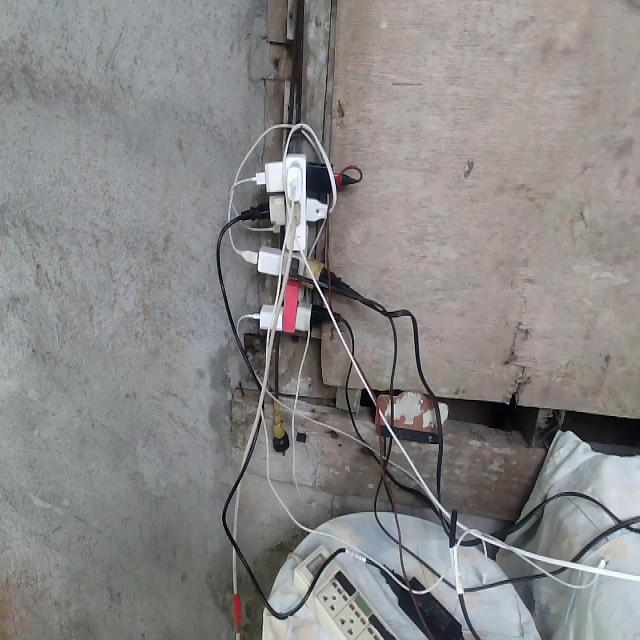-: (215, 121, 363, 338)
